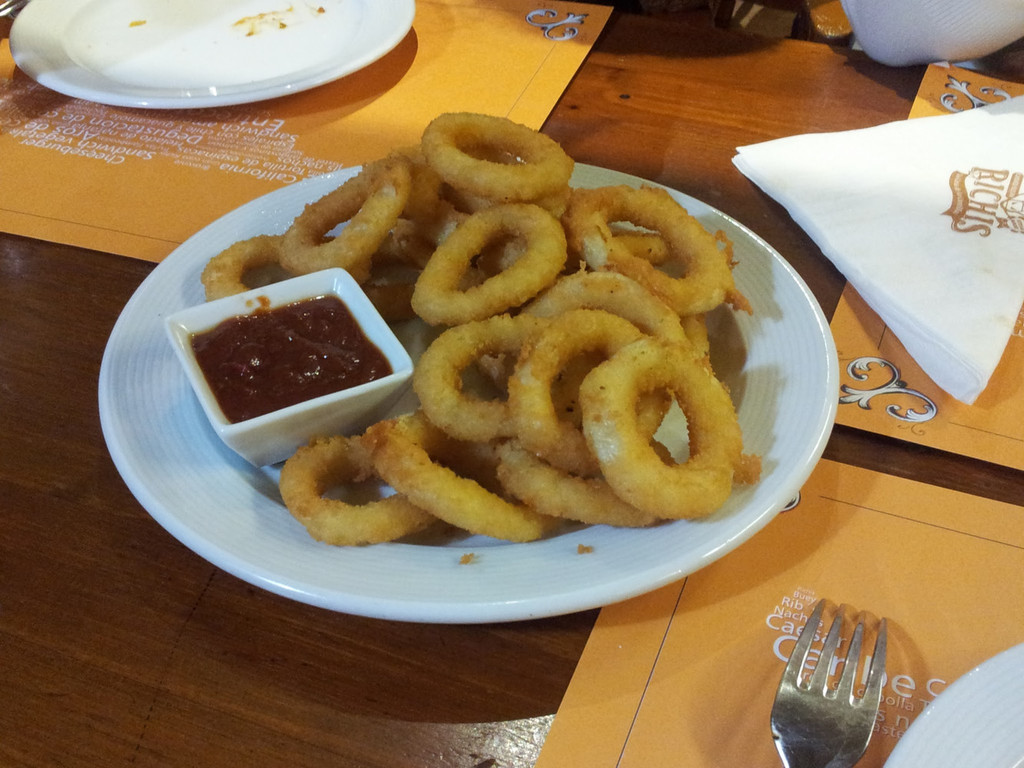plate: (97, 159, 839, 625)
